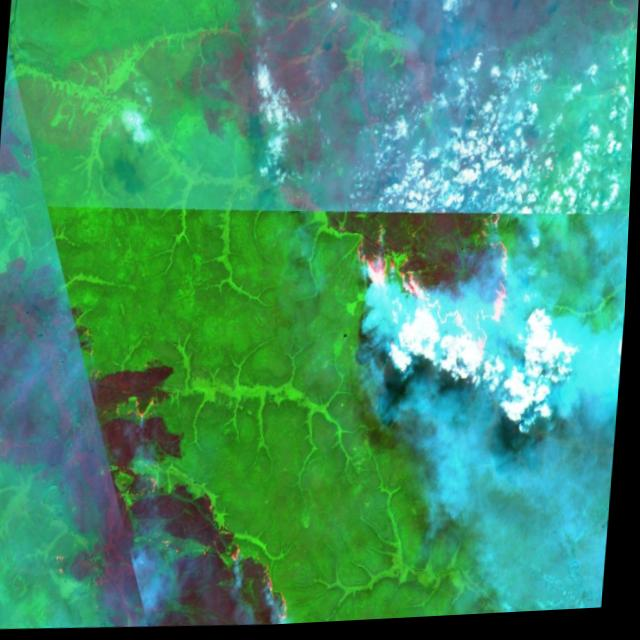fire: (327, 223, 511, 346), (222, 547, 297, 630), (118, 381, 166, 429)
